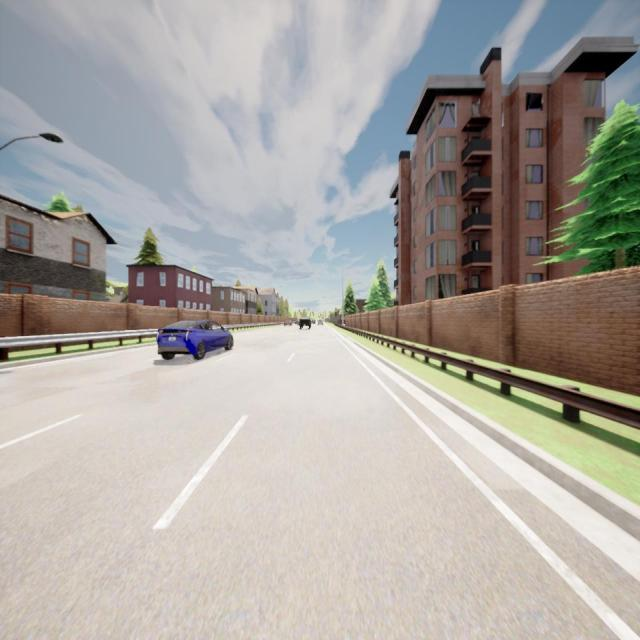Vehicle: (156, 320, 234, 360), (300, 316, 311, 330), (284, 319, 292, 326), (317, 320, 323, 326), (312, 319, 316, 324), (296, 320, 299, 326)
